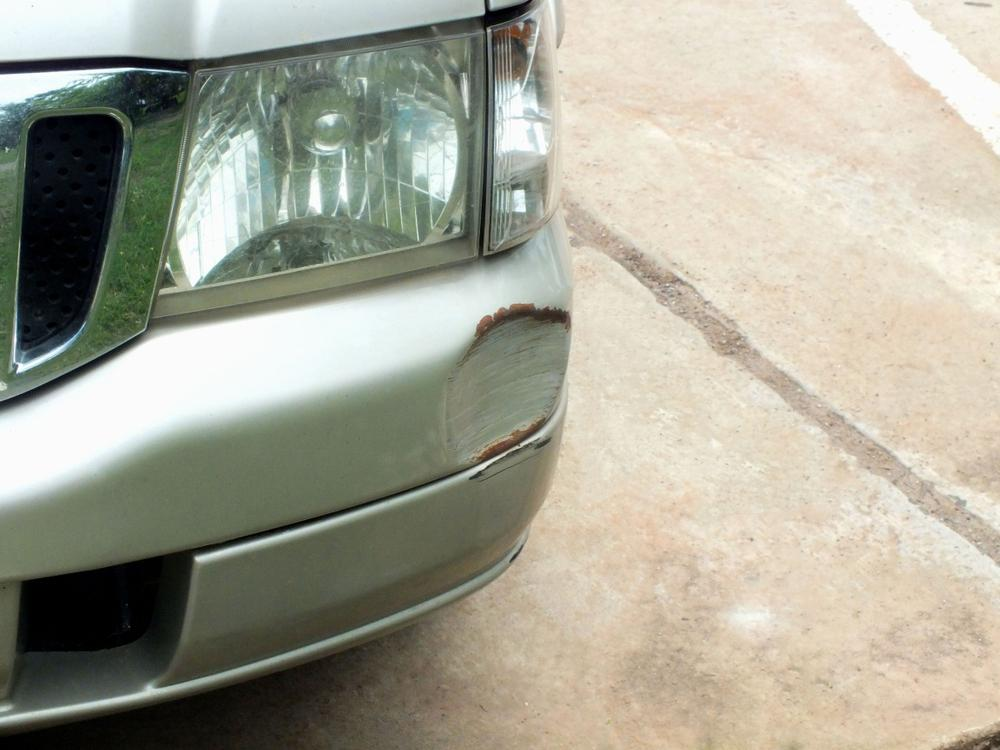dent: (442, 310, 571, 464)
scratch: (469, 436, 555, 485)
